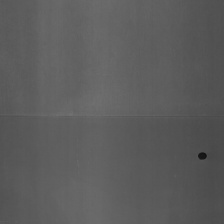punching_hole: (0, 110, 222, 123), (196, 148, 208, 162)
